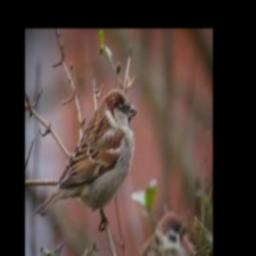Sparrow: (36, 88, 137, 229)
